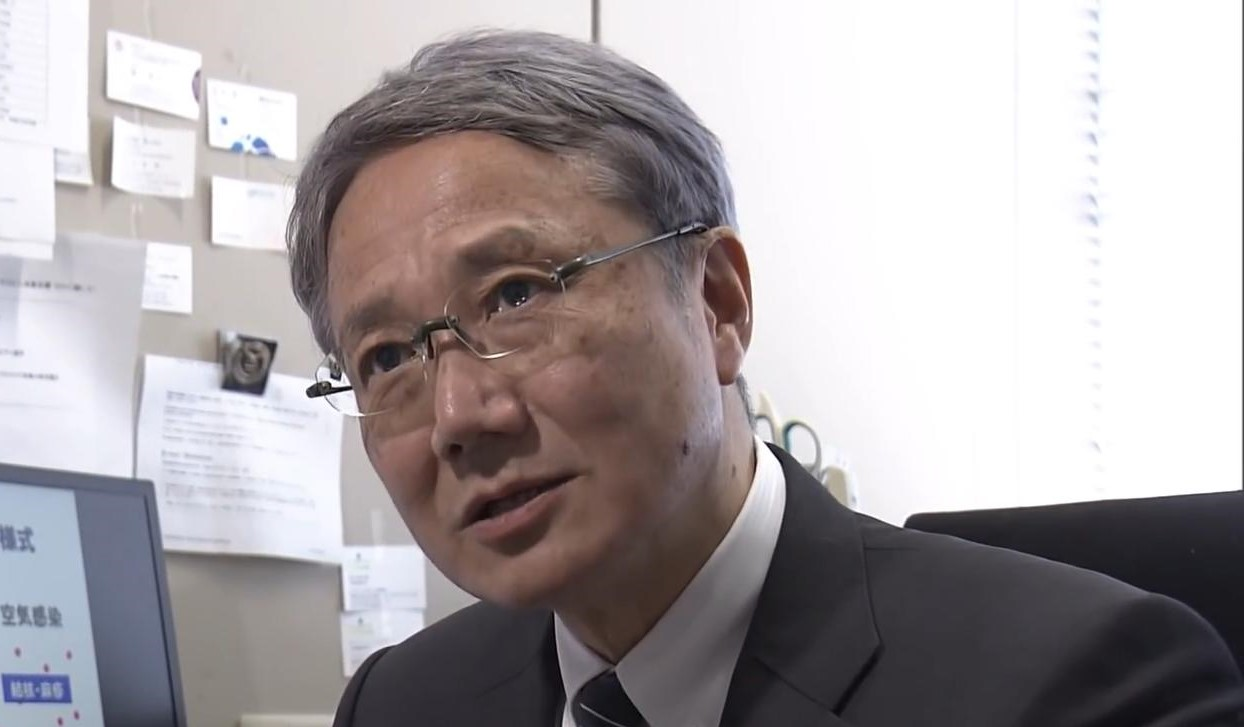without_mask: (361, 204, 625, 559)
